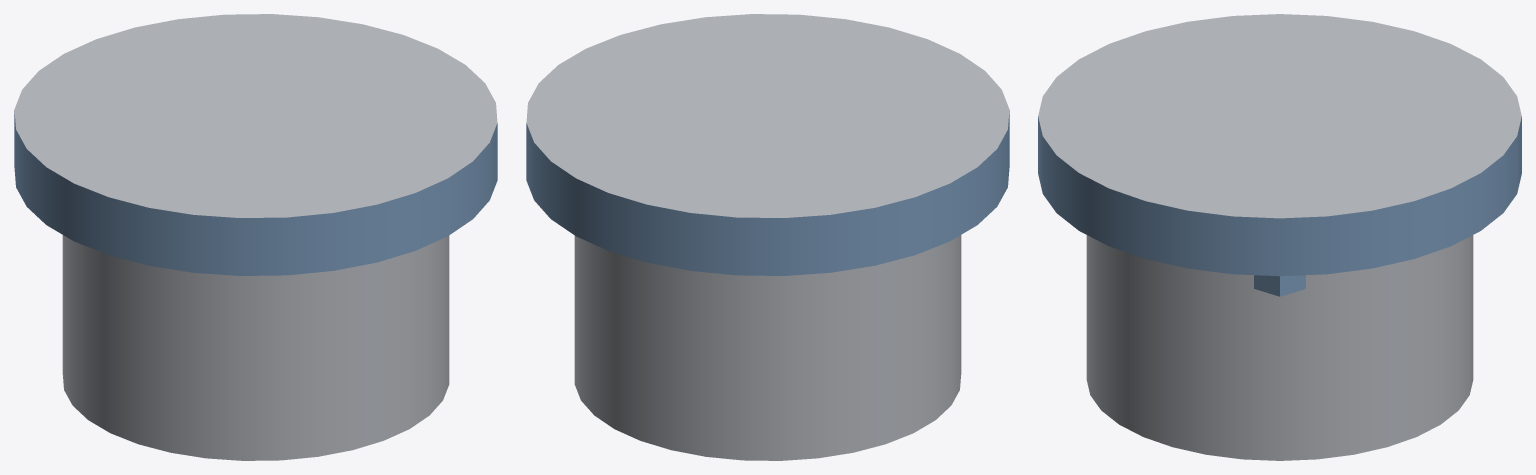
3 views of the same model, side by side, from view 1: azimuth 30°, elevation 25°; view 2: azimuth 150°, elevation 25°; view 3: azimuth 270°, elevation 25° (orthographic).
Visible parts, largest first — view 1: ratchet_1-90; view 2: ratchet_1-90; view 3: ratchet_1-90.
Part boxes in pixels (<box>): ratchet_1-90: <box>14,14,497,460</box>; ratchet_1-90: <box>526,14,1009,460</box>; ratchet_1-90: <box>1038,14,1521,460</box>.
Bounding box in the file's own units: 15 × 9 × 15.
